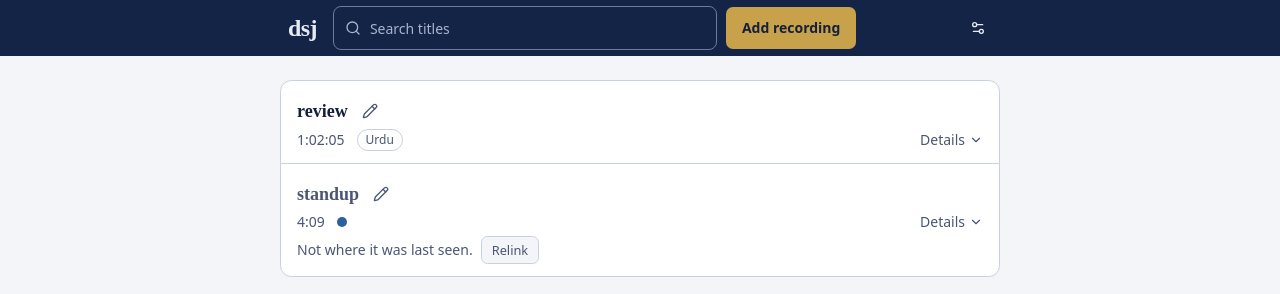
Test: the library page › filters by title as you type, and says when nothing matches
Expected: the list item "review" is shown, [281, 81, 999, 164]
Type "stand" into the search field labelled "Search titles". click: [525, 28]
box: [333, 6, 717, 50]
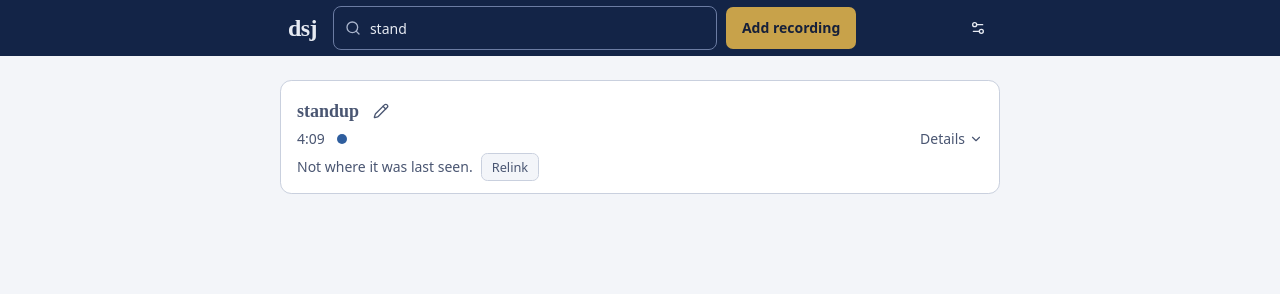
Expected: the list item "standup" is shown, [281, 81, 999, 193]
Expected: the link "review" is gone
Replace the text in the search field named "Search titles" with "zzz". click: [525, 28]
box: [333, 6, 717, 50]
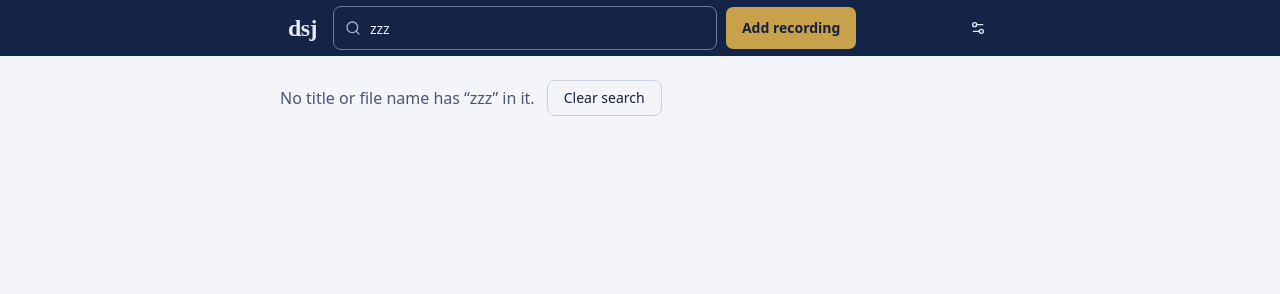
Expected: the message reads "No title or file name has “zzz” in it.", [280, 86, 535, 110]
Click the button "Clear search". click: [604, 98]
box: [547, 80, 662, 116]
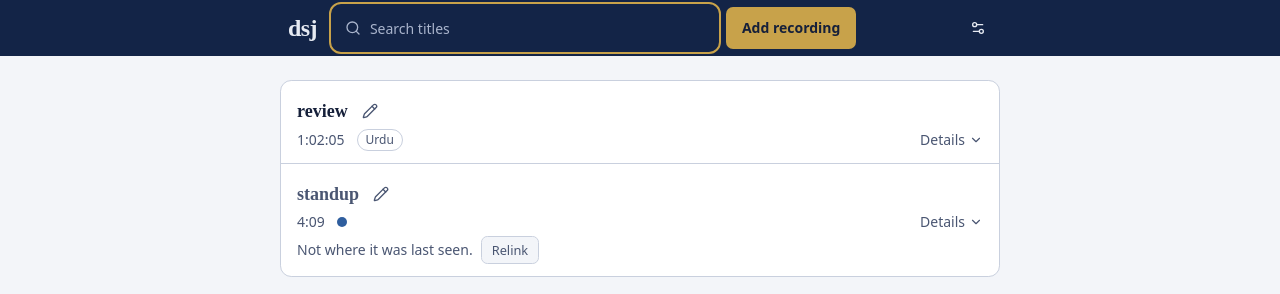
Expected: the number of list items "review 1:02:05 Urdu Details" is 2, [281, 81, 999, 164]; [281, 164, 999, 276]
